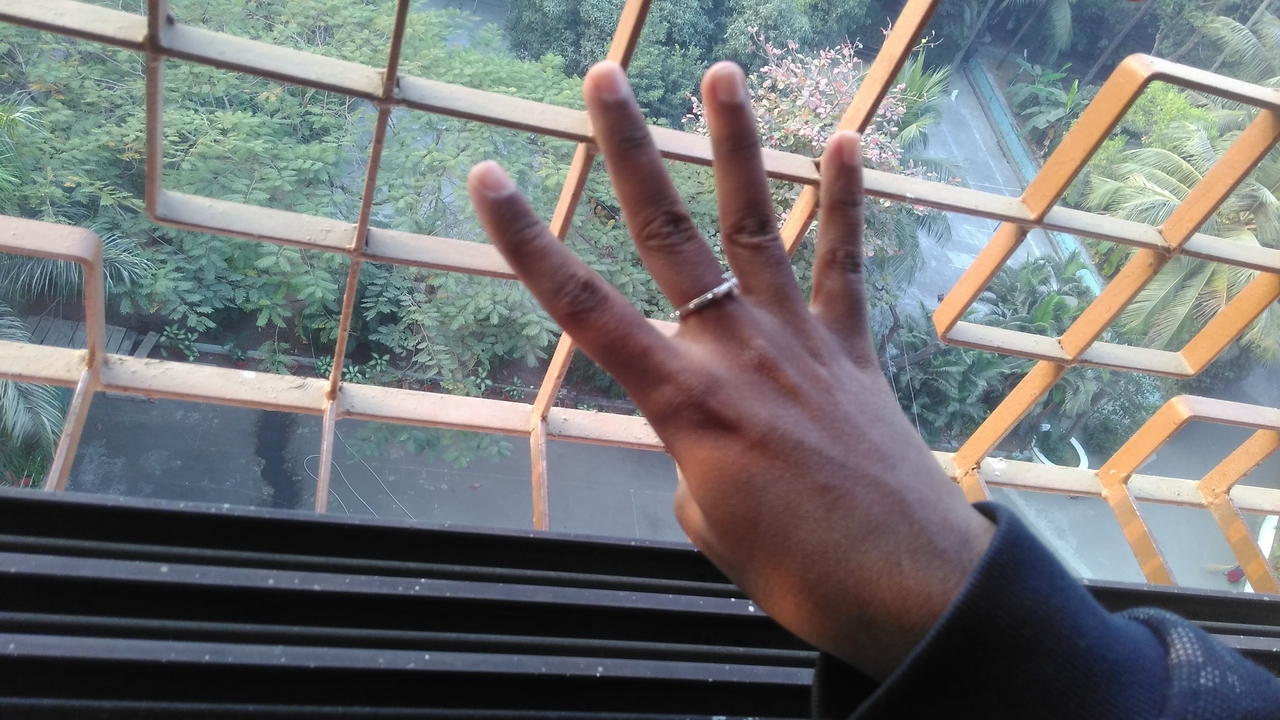fingertip: (456, 152, 522, 212), (580, 54, 630, 112), (702, 56, 750, 112), (822, 128, 868, 172)
